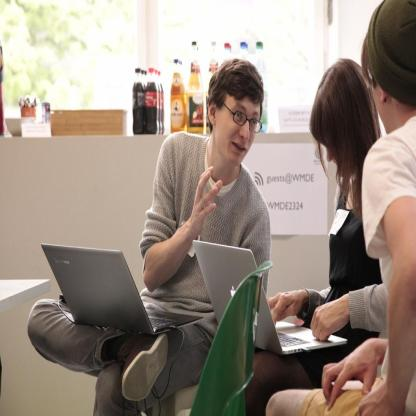board: (193, 239, 348, 356), (42, 242, 204, 338), (187, 42, 204, 132), (206, 42, 219, 134), (170, 58, 186, 132), (254, 41, 267, 132), (144, 66, 158, 133), (133, 67, 144, 134), (238, 42, 248, 60), (224, 42, 233, 61)
